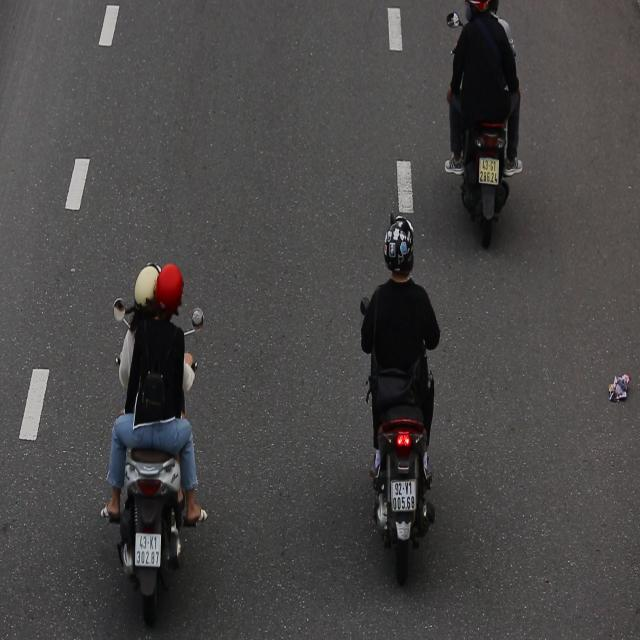motorbike: (102, 243, 212, 632), (352, 197, 443, 600)
